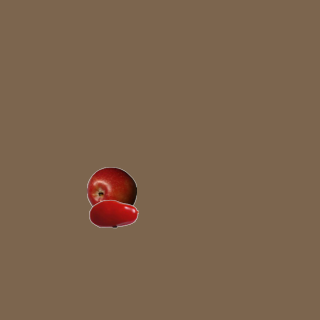Apple Braeburn: (86, 166, 136, 216)
Tomato 2: (88, 188, 138, 238)
